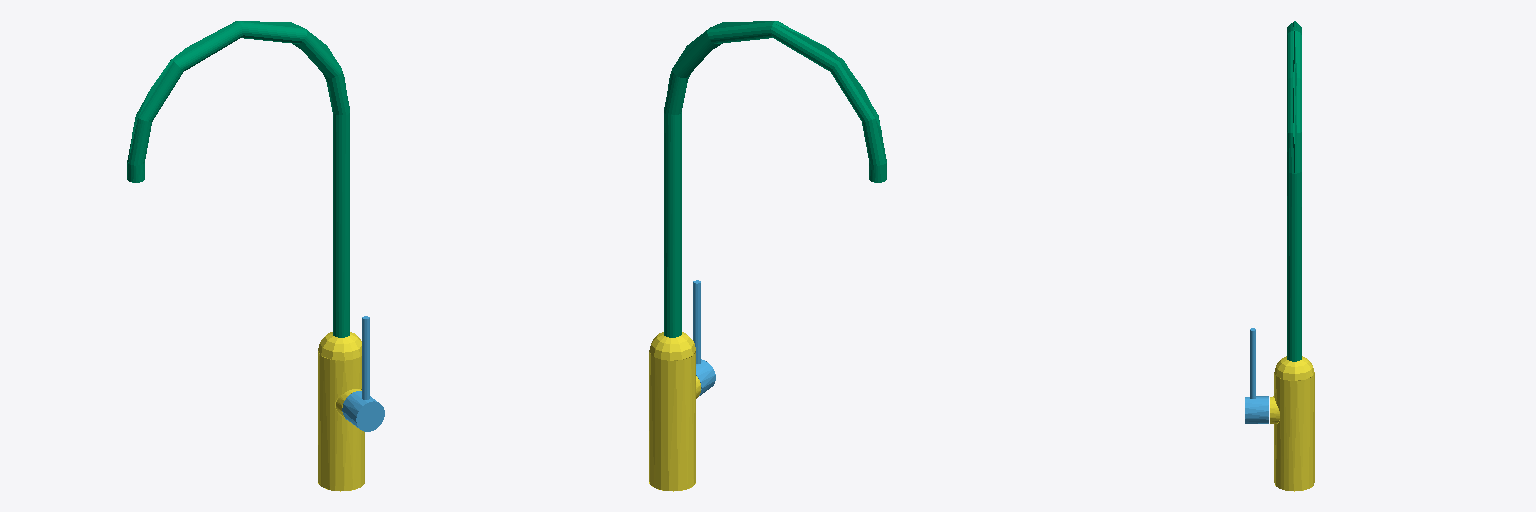
URDF robot description (partnet_9f6a53de1239fd6f50da8b99982a3057):
<?xml version="1.0" ?>
<robot name="partnet_9f6a53de1239fd6f50da8b99982a3057">
	<link name="base"/>
	<link name="link_0">
		<visual name="switch-2">
			<origin xyz="0 0.5560435 0.142765"/>
			<geometry>
				<mesh filename="textured_objs/original-5.obj"/>
			</geometry>
		</visual>
		<visual name="switch-2">
			<origin xyz="0 0.5560435 0.142765"/>
			<geometry>
				<mesh filename="textured_objs/original-21.obj"/>
			</geometry>
		</visual>
		<visual name="switch-2">
			<origin xyz="0 0.5560435 0.142765"/>
			<geometry>
				<mesh filename="textured_objs/original-14.obj"/>
			</geometry>
		</visual>
		<visual name="switch-2">
			<origin xyz="0 0.5560435 0.142765"/>
			<geometry>
				<mesh filename="textured_objs/original-15.obj"/>
			</geometry>
		</visual>
		<visual name="switch-2">
			<origin xyz="0 0.5560435 0.142765"/>
			<geometry>
				<mesh filename="textured_objs/original-4.obj"/>
			</geometry>
		</visual>
		<visual name="switch-2">
			<origin xyz="0 0.5560435 0.142765"/>
			<geometry>
				<mesh filename="textured_objs/original-24.obj"/>
			</geometry>
		</visual>
		<collision>
			<origin xyz="0 0.5560435 0.142765"/>
			<geometry>
				<mesh filename="textured_objs/original-5.obj"/>
			</geometry>
		</collision>
		<collision>
			<origin xyz="0 0.5560435 0.142765"/>
			<geometry>
				<mesh filename="textured_objs/original-21.obj"/>
			</geometry>
		</collision>
		<collision>
			<origin xyz="0 0.5560435 0.142765"/>
			<geometry>
				<mesh filename="textured_objs/original-14.obj"/>
			</geometry>
		</collision>
		<collision>
			<origin xyz="0 0.5560435 0.142765"/>
			<geometry>
				<mesh filename="textured_objs/original-15.obj"/>
			</geometry>
		</collision>
		<collision>
			<origin xyz="0 0.5560435 0.142765"/>
			<geometry>
				<mesh filename="textured_objs/original-4.obj"/>
			</geometry>
		</collision>
		<collision>
			<origin xyz="0 0.5560435 0.142765"/>
			<geometry>
				<mesh filename="textured_objs/original-24.obj"/>
			</geometry>
		</collision>
	</link>
	<joint name="joint_0" type="revolute">
		<origin xyz="0 -0.5560435 -0.142765"/>
		<axis xyz="1 0 0"/>
		<child link="link_0"/>
		<parent link="link_2"/>
		<limit lower="0.0" upper="2.9670597283903604"/>
	</joint>
	<link name="link_1">
		<visual name="vertical_support-8">
			<origin xyz="0.014311406501261337 0 0.14276496740800382"/>
			<geometry>
				<mesh filename="textured_objs/original-3.obj"/>
			</geometry>
		</visual>
		<visual name="vertical_support-8">
			<origin xyz="0.014311406501261337 0 0.14276496740800382"/>
			<geometry>
				<mesh filename="textured_objs/original-16.obj"/>
			</geometry>
		</visual>
		<visual name="tube-5">
			<origin xyz="0.014311406501261337 0 0.14276496740800382"/>
			<geometry>
				<mesh filename="textured_objs/original-17.obj"/>
			</geometry>
		</visual>
		<visual name="tube-5">
			<origin xyz="0.014311406501261337 0 0.14276496740800382"/>
			<geometry>
				<mesh filename="textured_objs/original-1.obj"/>
			</geometry>
		</visual>
		<visual name="mouth-6">
			<origin xyz="0.014311406501261337 0 0.14276496740800382"/>
			<geometry>
				<mesh filename="textured_objs/original-2.obj"/>
			</geometry>
		</visual>
		<visual name="mouth-6">
			<origin xyz="0.014311406501261337 0 0.14276496740800382"/>
			<geometry>
				<mesh filename="textured_objs/original-18.obj"/>
			</geometry>
		</visual>
		<visual name="mouth-6">
			<origin xyz="0.014311406501261337 0 0.14276496740800382"/>
			<geometry>
				<mesh filename="textured_objs/original-25.obj"/>
			</geometry>
		</visual>
		<collision>
			<origin xyz="0.014311406501261337 0 0.14276496740800382"/>
			<geometry>
				<mesh filename="textured_objs/original-3.obj"/>
			</geometry>
		</collision>
		<collision>
			<origin xyz="0.014311406501261337 0 0.14276496740800382"/>
			<geometry>
				<mesh filename="textured_objs/original-16.obj"/>
			</geometry>
		</collision>
		<collision>
			<origin xyz="0.014311406501261337 0 0.14276496740800382"/>
			<geometry>
				<mesh filename="textured_objs/original-17.obj"/>
			</geometry>
		</collision>
		<collision>
			<origin xyz="0.014311406501261337 0 0.14276496740800382"/>
			<geometry>
				<mesh filename="textured_objs/original-1.obj"/>
			</geometry>
		</collision>
		<collision>
			<origin xyz="0.014311406501261337 0 0.14276496740800382"/>
			<geometry>
				<mesh filename="textured_objs/original-2.obj"/>
			</geometry>
		</collision>
		<collision>
			<origin xyz="0.014311406501261337 0 0.14276496740800382"/>
			<geometry>
				<mesh filename="textured_objs/original-18.obj"/>
			</geometry>
		</collision>
		<collision>
			<origin xyz="0.014311406501261337 0 0.14276496740800382"/>
			<geometry>
				<mesh filename="textured_objs/original-25.obj"/>
			</geometry>
		</collision>
	</link>
	<joint name="joint_1" type="continuous">
		<origin xyz="-0.014311406501261337 0 -0.14276496740800382"/>
		<axis xyz="0 1 0"/>
		<child link="link_1"/>
		<parent link="link_2"/>
	</joint>
	<link name="link_2">
		<visual name="vertical_support-7">
			<origin xyz="0 0 0"/>
			<geometry>
				<mesh filename="textured_objs/original-10.obj"/>
			</geometry>
		</visual>
		<visual name="vertical_support-7">
			<origin xyz="0 0 0"/>
			<geometry>
				<mesh filename="textured_objs/original-11.obj"/>
			</geometry>
		</visual>
		<visual name="vertical_support-7">
			<origin xyz="0 0 0"/>
			<geometry>
				<mesh filename="textured_objs/original-8.obj"/>
			</geometry>
		</visual>
		<visual name="vertical_support-7">
			<origin xyz="0 0 0"/>
			<geometry>
				<mesh filename="textured_objs/original-9.obj"/>
			</geometry>
		</visual>
		<visual name="vertical_support-7">
			<origin xyz="0 0 0"/>
			<geometry>
				<mesh filename="textured_objs/original-20.obj"/>
			</geometry>
		</visual>
		<visual name="horizontal_support-9">
			<origin xyz="0 0 0"/>
			<geometry>
				<mesh filename="textured_objs/original-7.obj"/>
			</geometry>
		</visual>
		<visual name="horizontal_support-9">
			<origin xyz="0 0 0"/>
			<geometry>
				<mesh filename="textured_objs/original-12.obj"/>
			</geometry>
		</visual>
		<collision>
			<origin xyz="0 0 0"/>
			<geometry>
				<mesh filename="textured_objs/original-10.obj"/>
			</geometry>
		</collision>
		<collision>
			<origin xyz="0 0 0"/>
			<geometry>
				<mesh filename="textured_objs/original-11.obj"/>
			</geometry>
		</collision>
		<collision>
			<origin xyz="0 0 0"/>
			<geometry>
				<mesh filename="textured_objs/original-8.obj"/>
			</geometry>
		</collision>
		<collision>
			<origin xyz="0 0 0"/>
			<geometry>
				<mesh filename="textured_objs/original-9.obj"/>
			</geometry>
		</collision>
		<collision>
			<origin xyz="0 0 0"/>
			<geometry>
				<mesh filename="textured_objs/original-20.obj"/>
			</geometry>
		</collision>
		<collision>
			<origin xyz="0 0 0"/>
			<geometry>
				<mesh filename="textured_objs/original-7.obj"/>
			</geometry>
		</collision>
		<collision>
			<origin xyz="0 0 0"/>
			<geometry>
				<mesh filename="textured_objs/original-12.obj"/>
			</geometry>
		</collision>
	</link>
	<joint name="joint_2" type="fixed">
		<origin rpy="1.570796326794897 0 -1.570796326794897" xyz="0 0 0"/>
		<child link="link_2"/>
		<parent link="base"/>
	</joint>
</robot>

--- Render facts (derived) ---
3 views of the same robot in one strip: view 1: azimuth 30°, elevation 25°; view 2: azimuth 150°, elevation 25°; view 3: azimuth 270°, elevation 25° (orthographic).
Robot: partnet_9f6a53de1239fd6f50da8b99982a3057 — 4 links, 3 joints (1 revolute, 1 continuous, 1 fixed); root link base; default pose: every joint at zero.
Visible links, largest first — view 1: link_1, link_2, link_0; view 2: link_1, link_2, link_0; view 3: link_2, link_1, link_0.
Boxes of the visible links, bbox=[...] form: link_1: bbox=[127, 21, 349, 337]; link_2: bbox=[318, 332, 364, 491]; link_0: bbox=[342, 316, 384, 431]; link_1: bbox=[664, 21, 886, 337]; link_2: bbox=[649, 332, 700, 491]; link_0: bbox=[693, 280, 715, 395]; link_2: bbox=[1270, 356, 1314, 491]; link_1: bbox=[1287, 21, 1301, 361]; link_0: bbox=[1245, 328, 1268, 423].
Bounding box of the posed robot: 0.9234 × 0.2798 × 1.83 m (x, y, z).
20 mesh visuals loaded from 20 distinct referenced files (20 OBJ).
